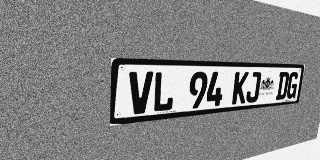4: (206, 72, 225, 107)
9: (188, 72, 208, 109)
D: (275, 72, 290, 100)
G: (286, 72, 299, 99)
J: (245, 72, 262, 103)
K: (232, 72, 249, 104)
L: (152, 71, 175, 113)
V: (128, 71, 153, 115)
